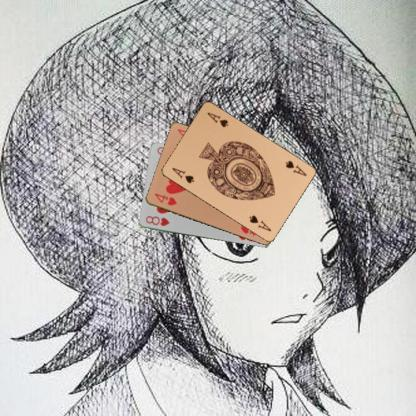4h: (152, 191, 178, 207)
8h: (143, 213, 170, 228)
As: (170, 165, 196, 185), (283, 158, 308, 177)
